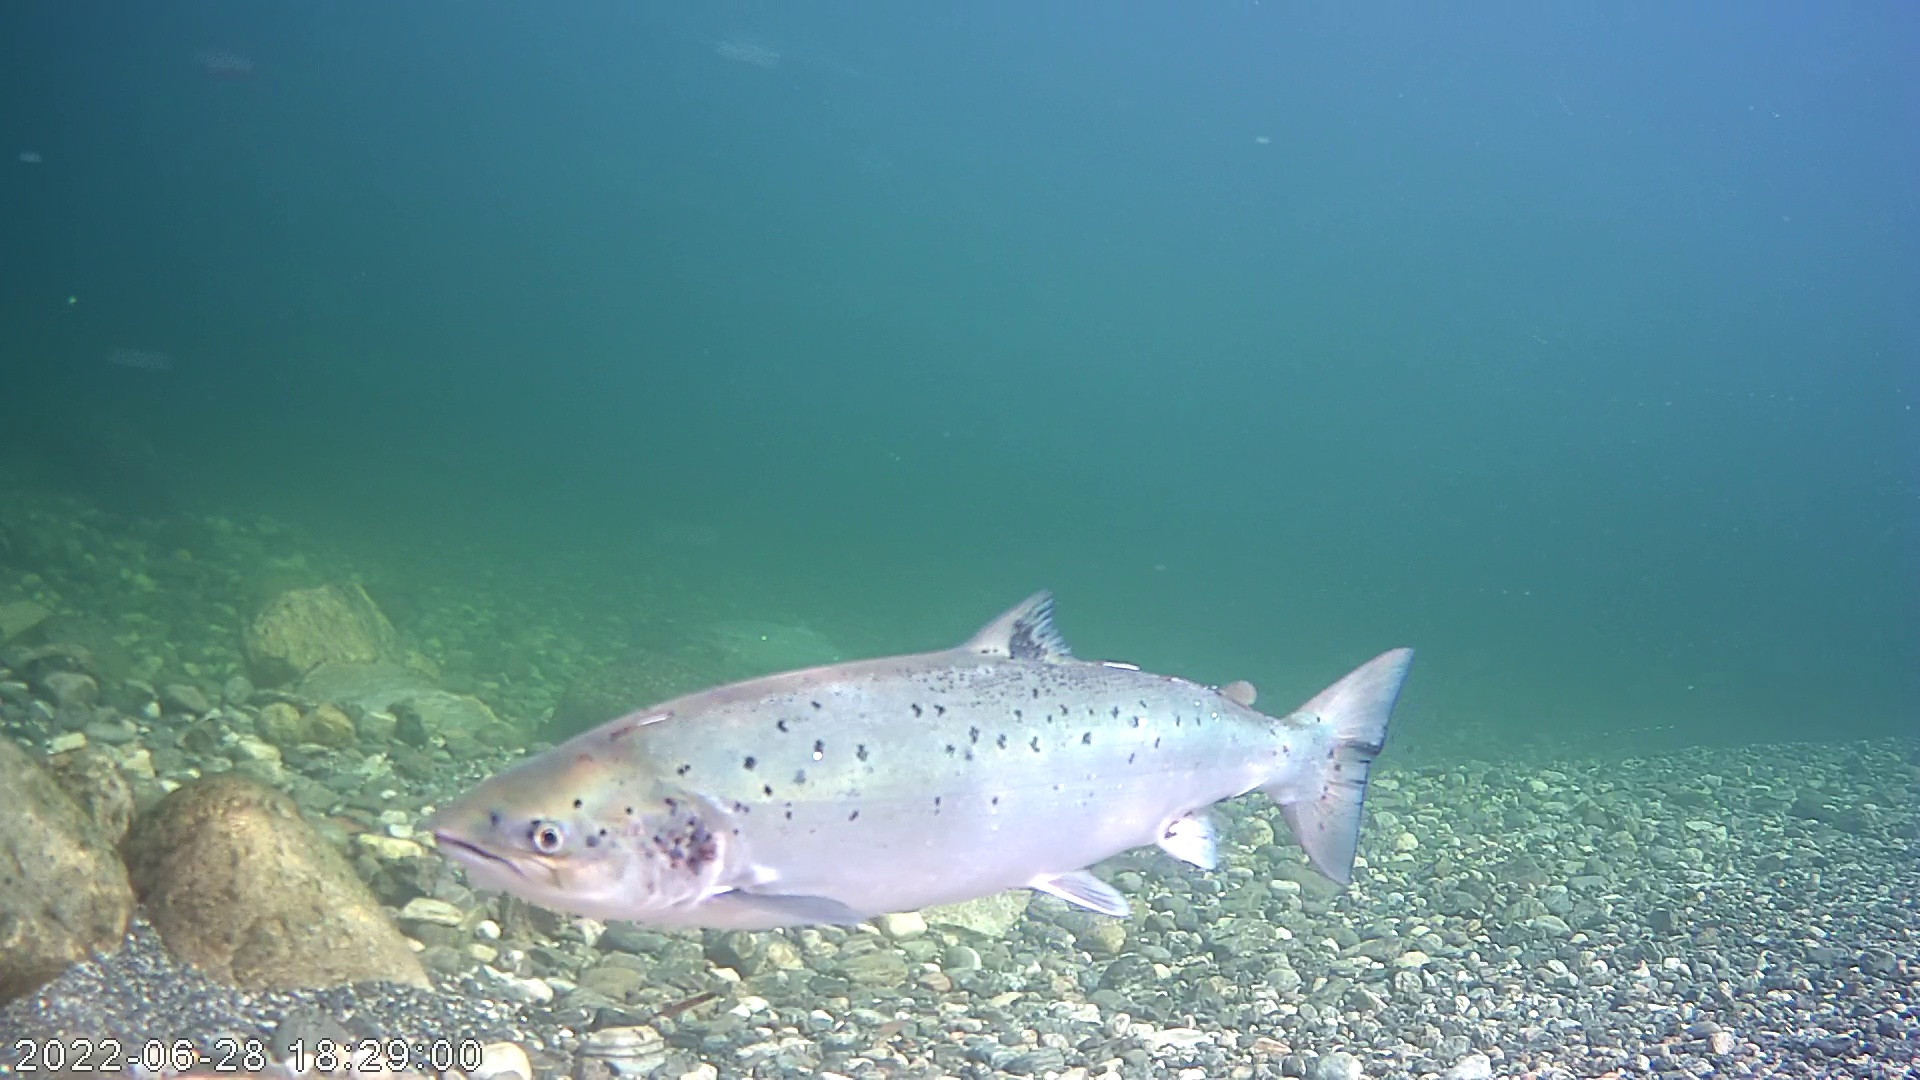salmon: (415, 525, 1431, 928)
